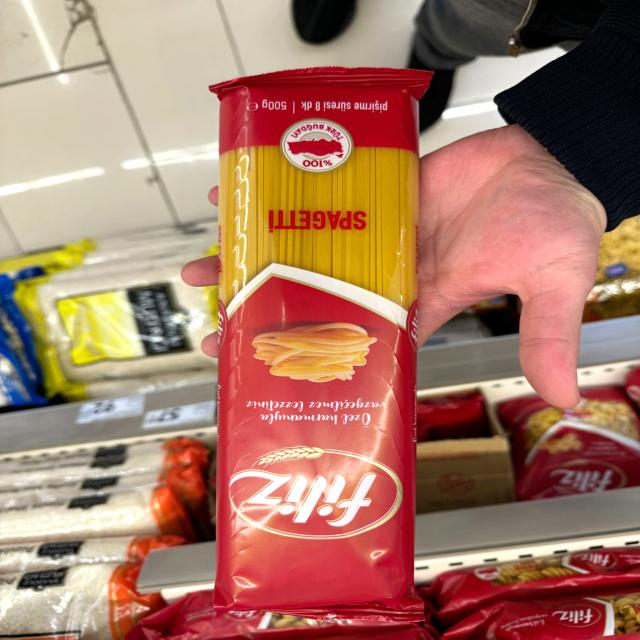spaghetti: (207, 66, 439, 628)
